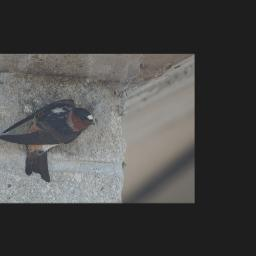Swallow: (0, 97, 96, 182)
